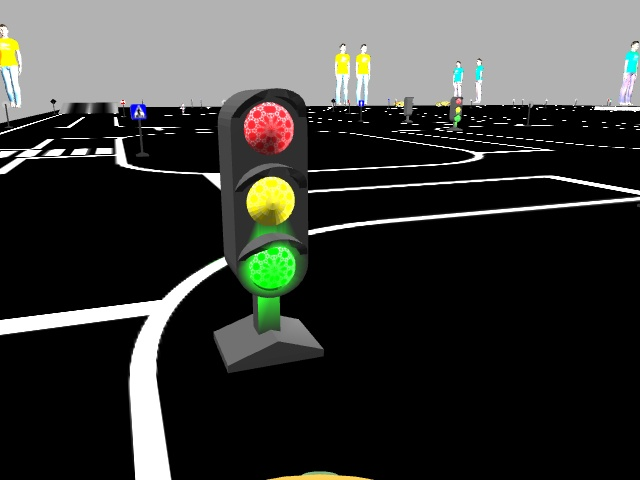Crosswalk: (130, 103, 145, 118)
TrafficLight: (220, 86, 304, 292)
